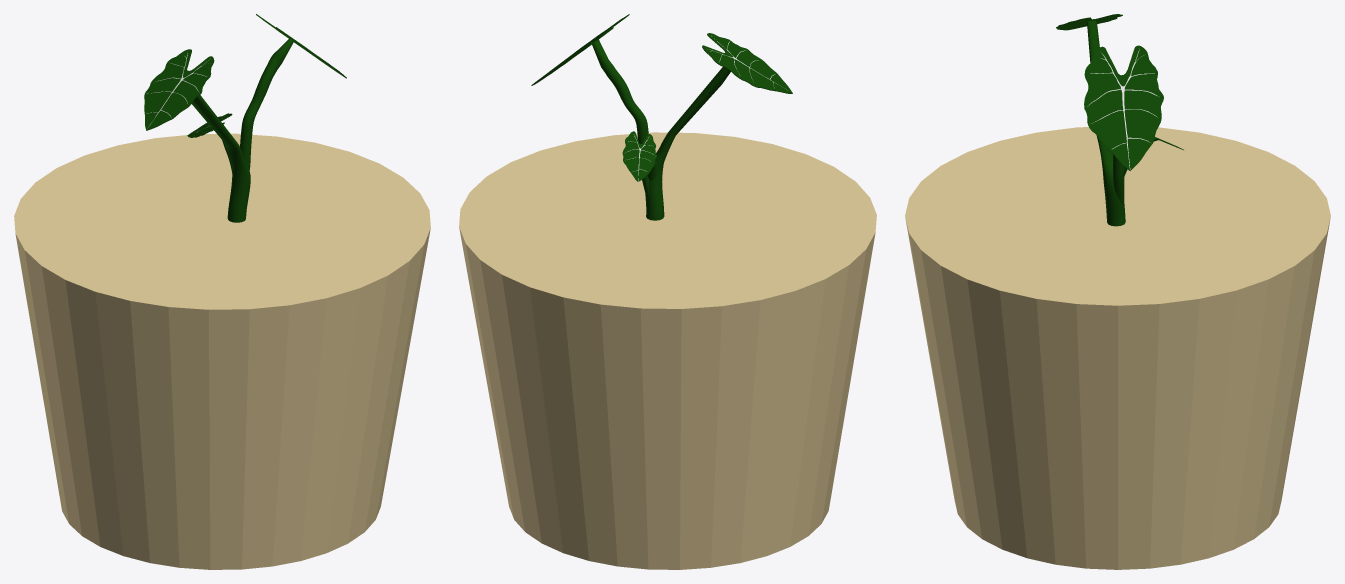
Rendered from Alokasia5.glb.
The picture shows the model from 3 angles, left to right: view 1: azimuth 30°, elevation 25°; view 2: azimuth 150°, elevation 25°; view 3: azimuth 270°, elevation 25°; orthographic projection.
Visible parts, largest first — view 1: 흙임, 잎.001; view 2: 흙임, 잎.001; view 3: 흙임, 잎.001.
Part boxes in pixels (x1,y1,x2,y2): 흙임: (14, 133, 430, 569); 잎.001: (144, 14, 346, 222); 흙임: (459, 132, 876, 569); 잎.001: (531, 14, 792, 220); 흙임: (905, 127, 1330, 569); 잎.001: (1056, 14, 1183, 226).
Size of the model in its own units: 0.3201 by 0.3967 by 0.3201.
